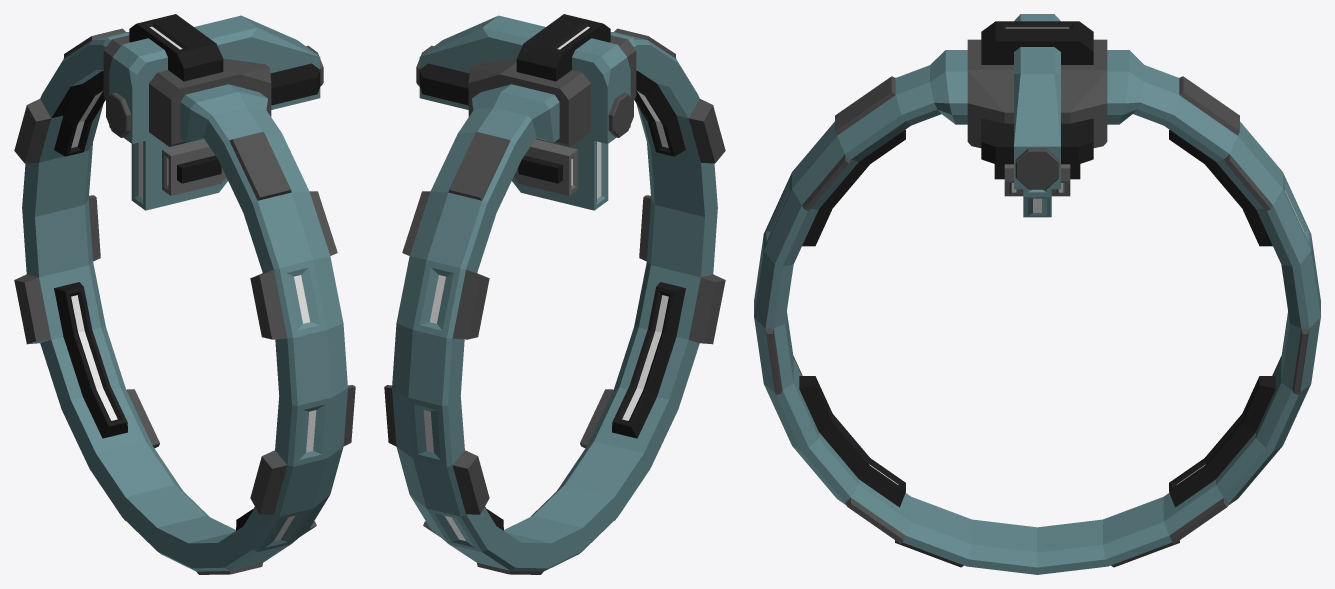
Rendered from SS_Hab1.fbx.
3 renders of one model, left to right at view 1: azimuth 30°, elevation 25°; view 2: azimuth 150°, elevation 25°; view 3: azimuth 270°, elevation 25°, orthographic. The views are drawn at different scales.
Parts seen in each view (by area): view 1: Cube.003; view 2: Cube.003; view 3: Cube.003.
Boxes of the visible parts, x1,y1,x2,y2 form: Cube.003: (14, 14, 355, 574); Cube.003: (384, 14, 725, 574); Cube.003: (754, 14, 1320, 574).
Size of the model in its own units: 1000 by 2495 by 2400.
